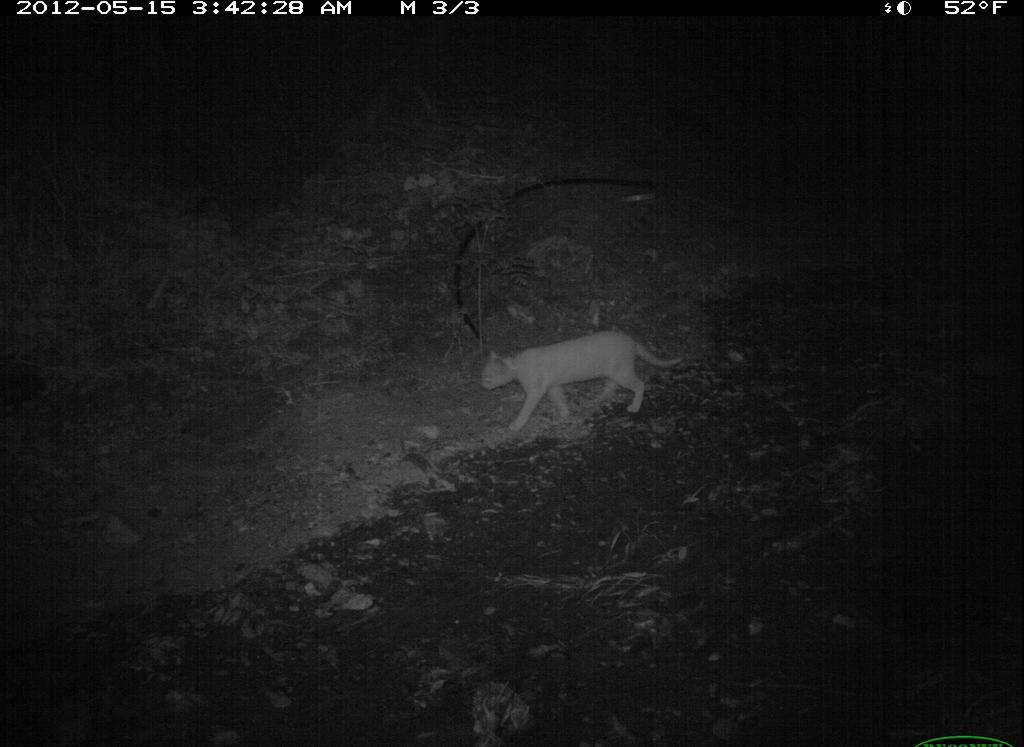cat: (478, 329, 692, 438)
